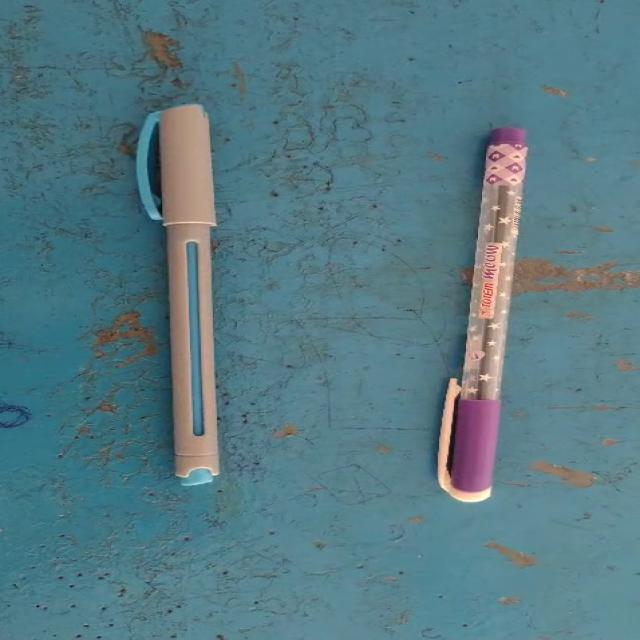pen: (52, 51, 290, 531), (404, 86, 565, 542)
